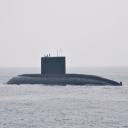submarine: (6, 58, 127, 86)
